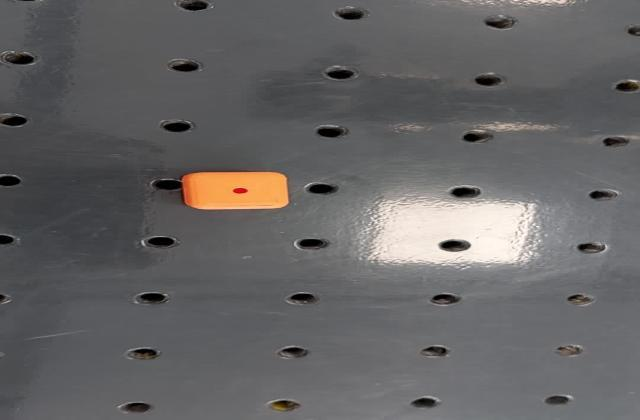cube: (173, 168, 301, 214)
